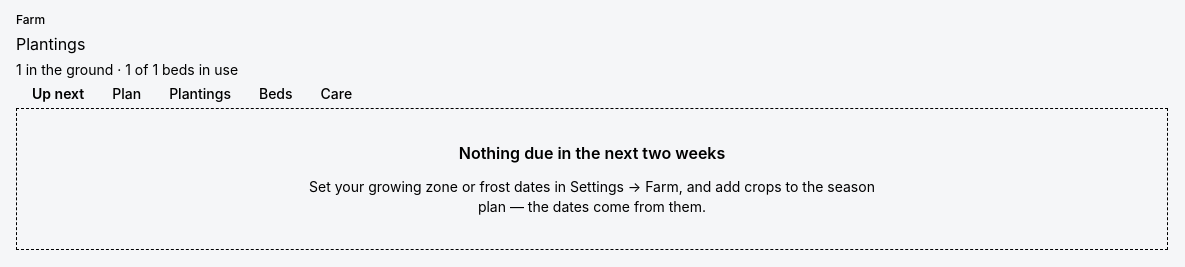
Test: plantings › leads with facts and the current plantings, finished ones a chip away
This screenshot has width=1185, height=267.
Click the tab "Plantings" at (200, 94), box [157,84,243,104]
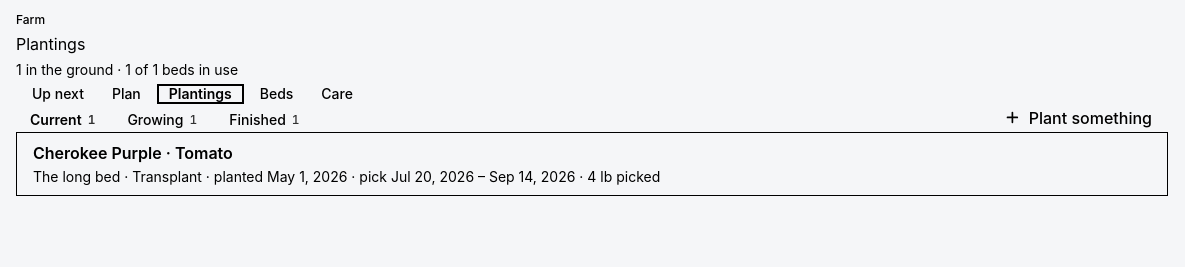
expect the text "1 in the ground · 1 of 1 beds in use" is shown: met, box [16,60,238,80]
expect the number of list items is 1: met, box [17,133,1167,195]
Click the button "Finished 1" at (264, 120), box [215,110,314,130]
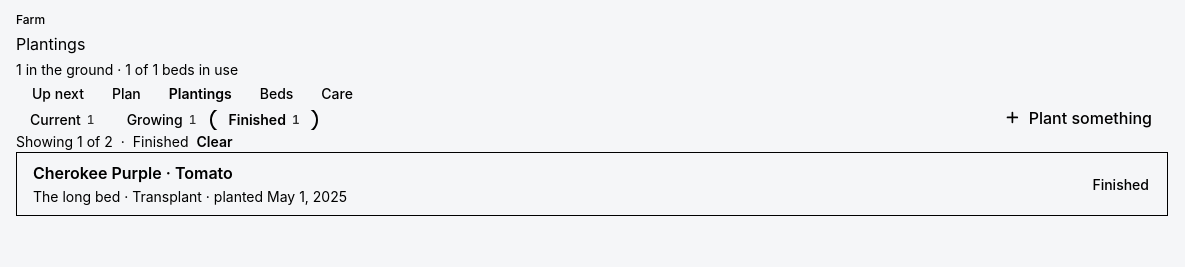
expect the text "Showing 1 of 2" is shown: met, box [16,132,113,152]
